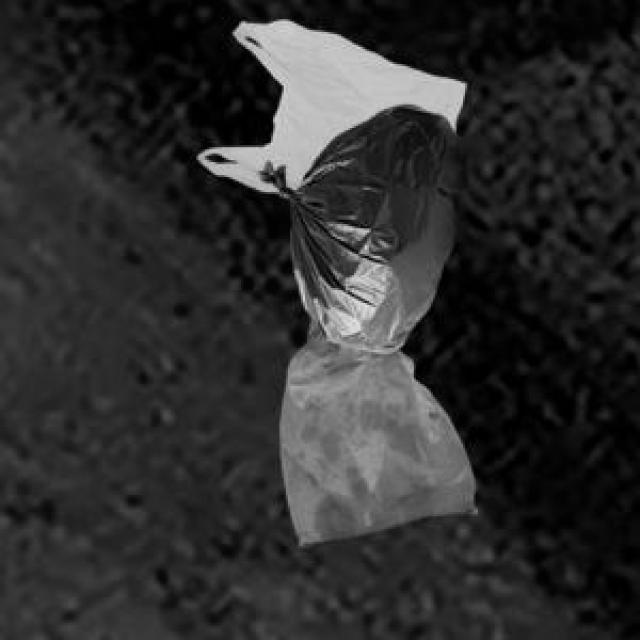miscellaneous trash: (256, 100, 463, 350)
paper: (275, 314, 472, 542)
